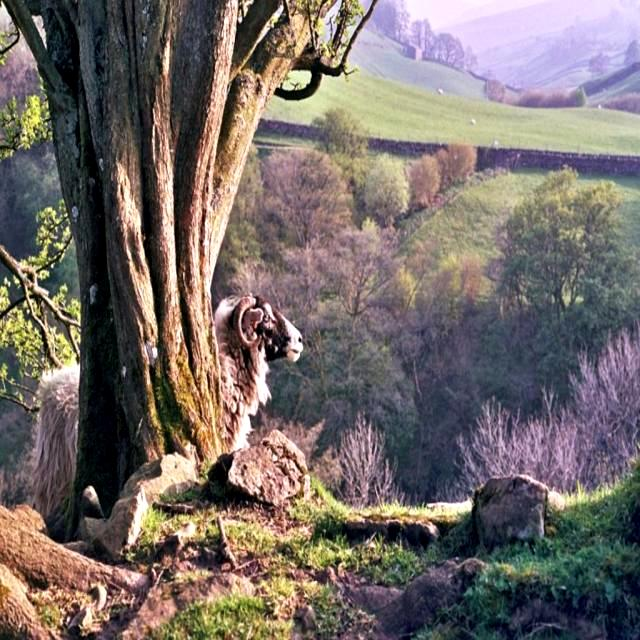sheep: (32, 295, 303, 521)
